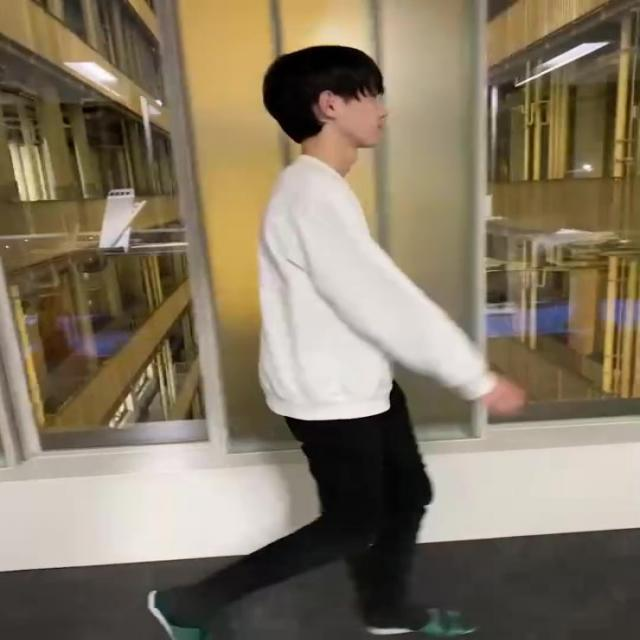direk: (142, 44, 538, 640)
